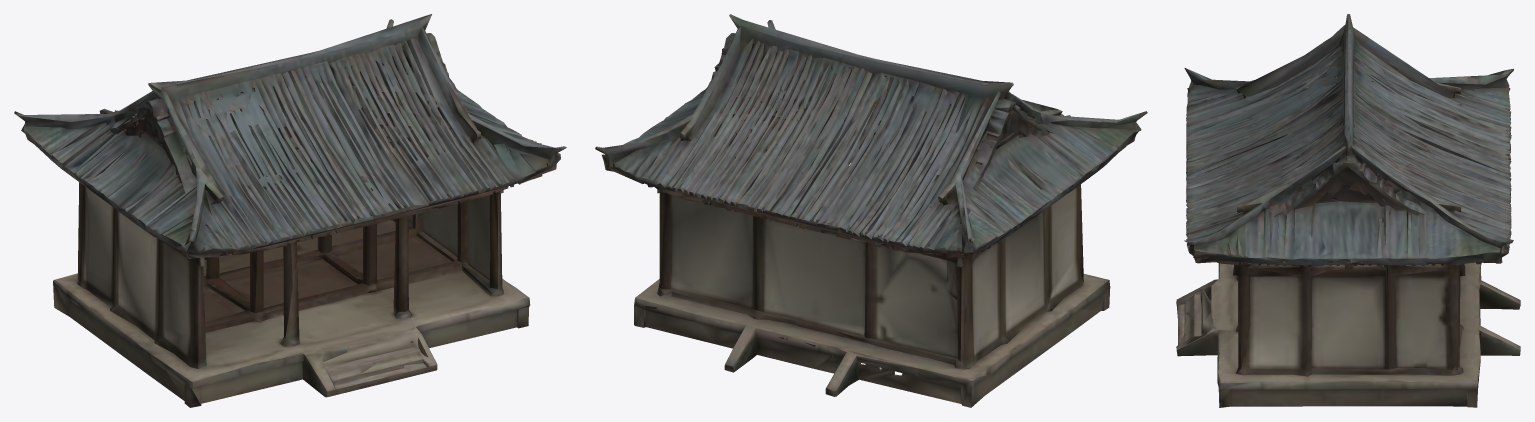
The model's file is ARCH-003.glb.
3 renders of one model, left to right at view 1: azimuth 30°, elevation 25°; view 2: azimuth 150°, elevation 25°; view 3: azimuth 270°, elevation 25°, orthographic. The views are drawn at different scales.
Visible parts, largest first — view 1: world; view 2: world; view 3: world.
Boxes of the visible parts, x1,y1,x2,y2 form: world: (14,14,566,407); world: (595,14,1147,407); world: (1176,14,1520,407).
Size of the model in its own units: 8 by 5.44 by 6.71.
Materials: 1 (1 with a texture image).
